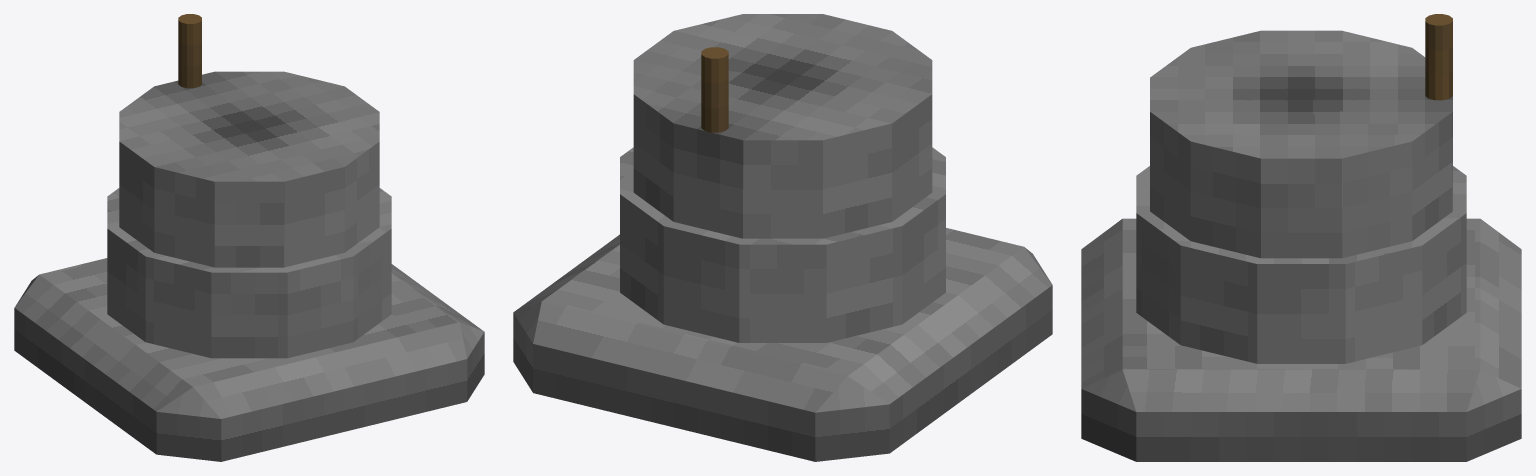
File: jernova.obj
The picture shows the model from 3 angles, left to right: view 1: azimuth 30°, elevation 25°; view 2: azimuth 150°, elevation 25°; view 3: azimuth 270°, elevation 25°; orthographic projection. The views are drawn at different scales.
Parts seen in each view (by area): view 1: 4, 1, 3, 2; view 2: 4, 1, 3, 2; view 3: 4, 1, 3, 2.
Part boxes in pixels (x1,y1,x2,y2): 4: (14,258,484,461); 1: (119,71,379,267); 3: (107,188,391,358); 2: (178,14,201,88); 4: (513,228,1052,461); 1: (633,14,932,238); 3: (620,147,945,342); 2: (701,47,728,132); 4: (1081,218,1521,461); 1: (1150,30,1452,258); 3: (1136,166,1466,363); 2: (1425,14,1452,100).
Size of the model in its own units: 1 by 0.875 by 1.
